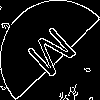M: (25, 25, 86, 87)
